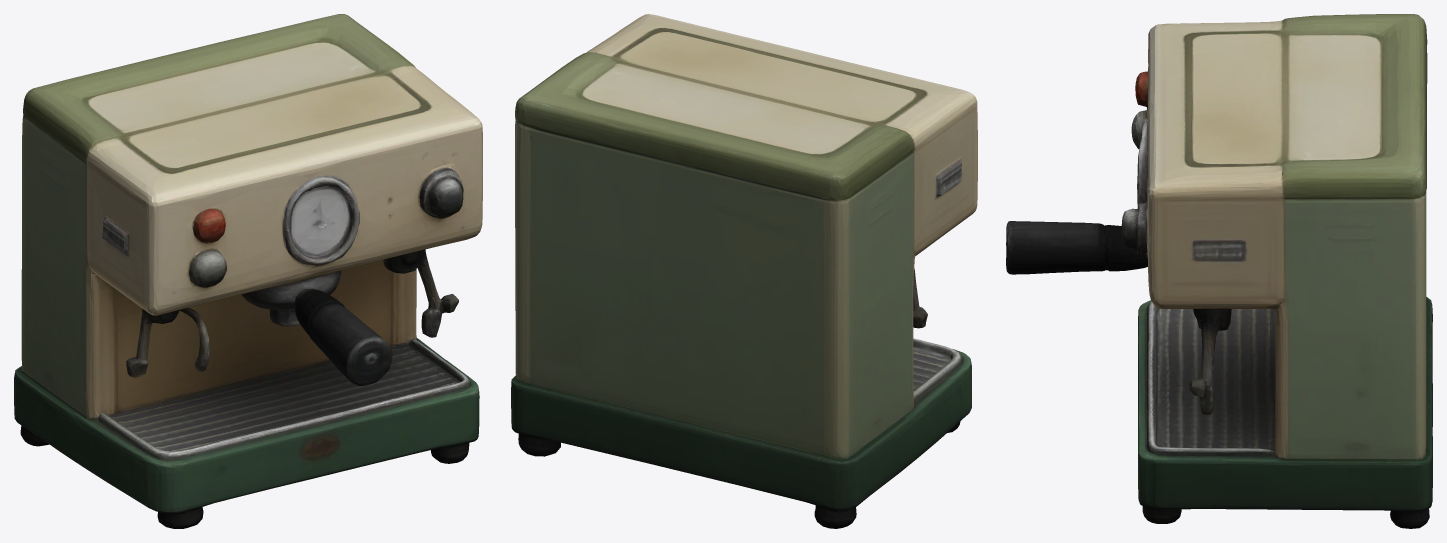
Rendered from item_espresso_machine.glb.
3 views of the same model, side by side, from view 1: azimuth 30°, elevation 25°; view 2: azimuth 150°, elevation 25°; view 3: azimuth 270°, elevation 25° (orthographic). The views are drawn at different scales.
Parts seen in each view (by area): view 1: geometry_0; view 2: geometry_0; view 3: geometry_0.
Boxes of the visible parts, <box> form: geometry_0: <box>14,14,482,528</box>; geometry_0: <box>511,14,977,528</box>; geometry_0: <box>1006,14,1432,528</box>.
Bounding box in the file's own units: 0.4669 × 0.4595 × 0.4933.
Materials: 1 (1 with a texture image).
